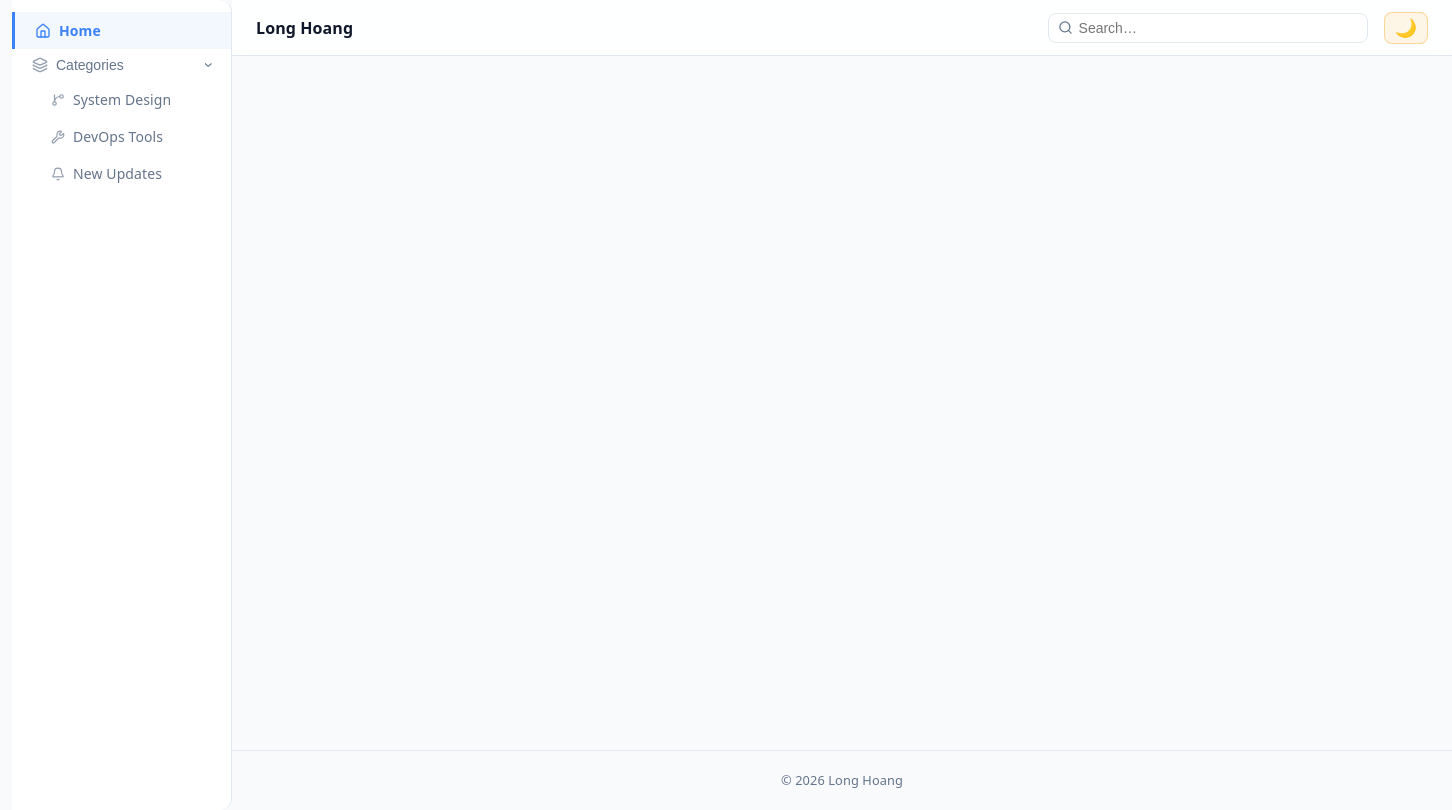
Test case: AppShell › clicking the Categories group button collapses it
Click the button "Categories ›". click: (122, 65)
box: [12,49,231,81]
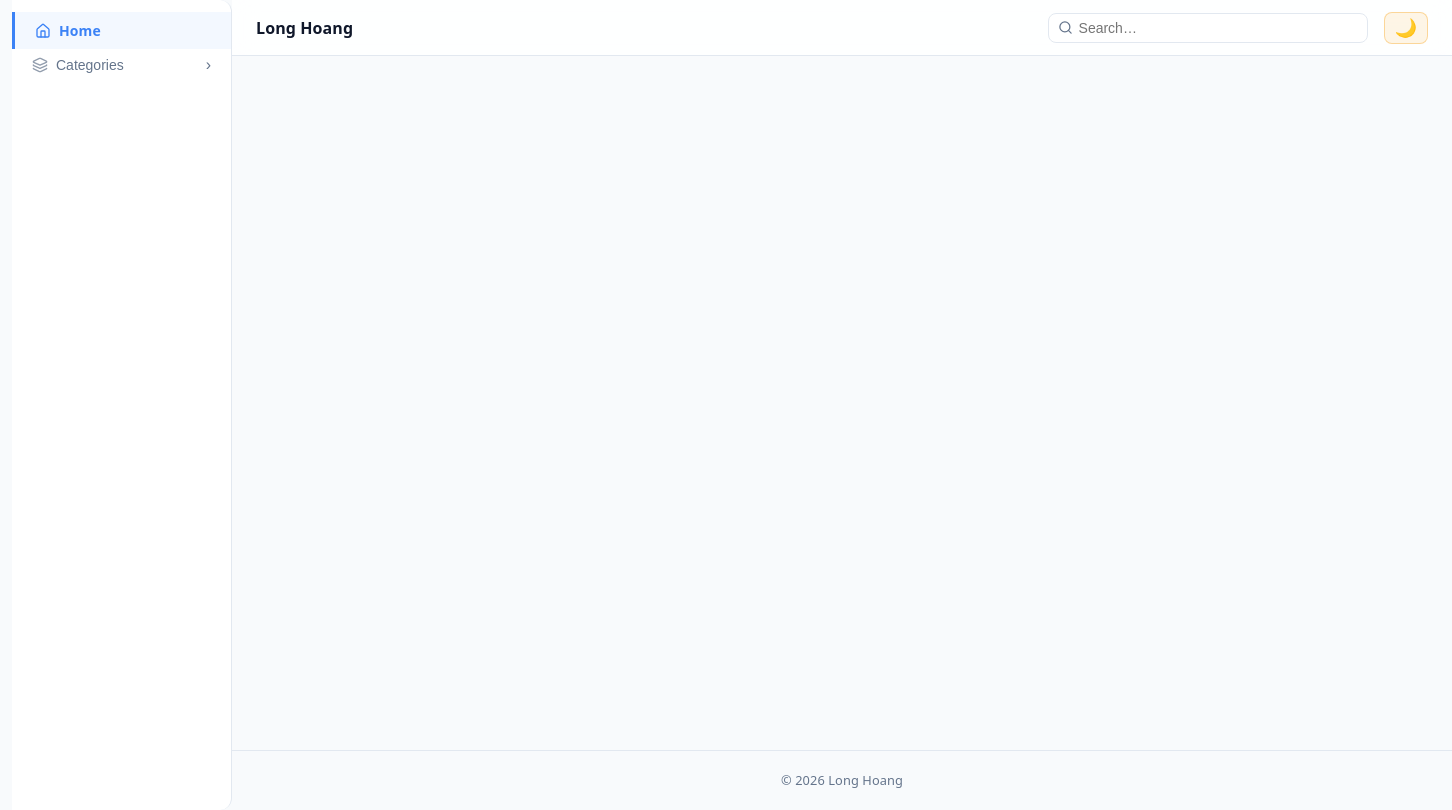
Check: the link "System Design" is gone
